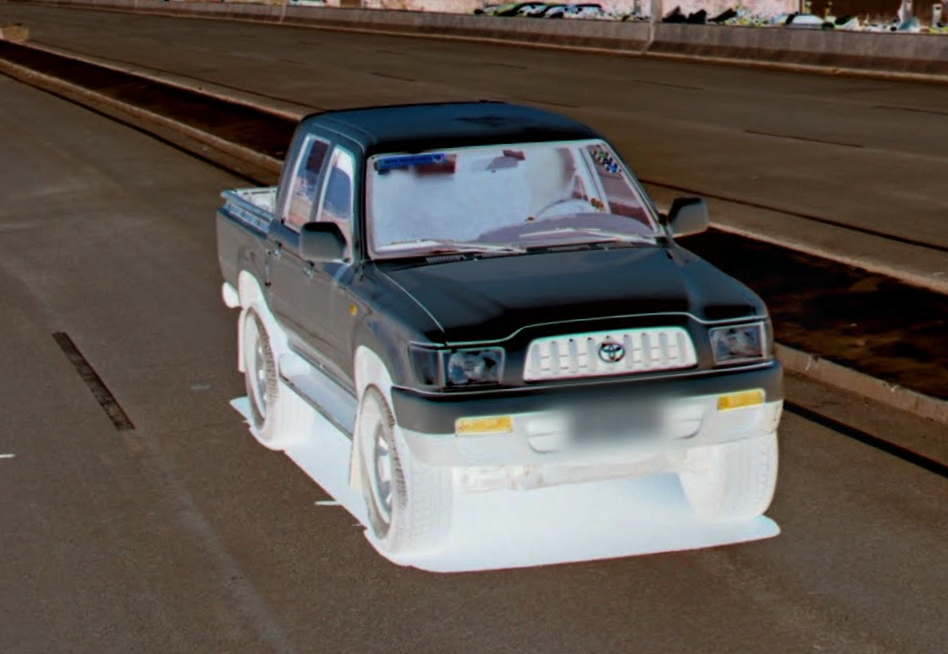car: (213, 93, 783, 566)
